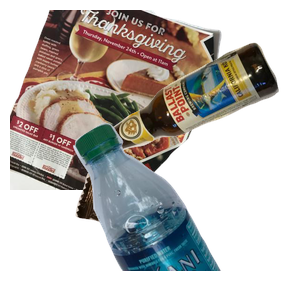glass: (91, 40, 300, 190)
paper: (10, 10, 224, 190)
plastic: (71, 120, 300, 300)
trash: (73, 171, 242, 300)
